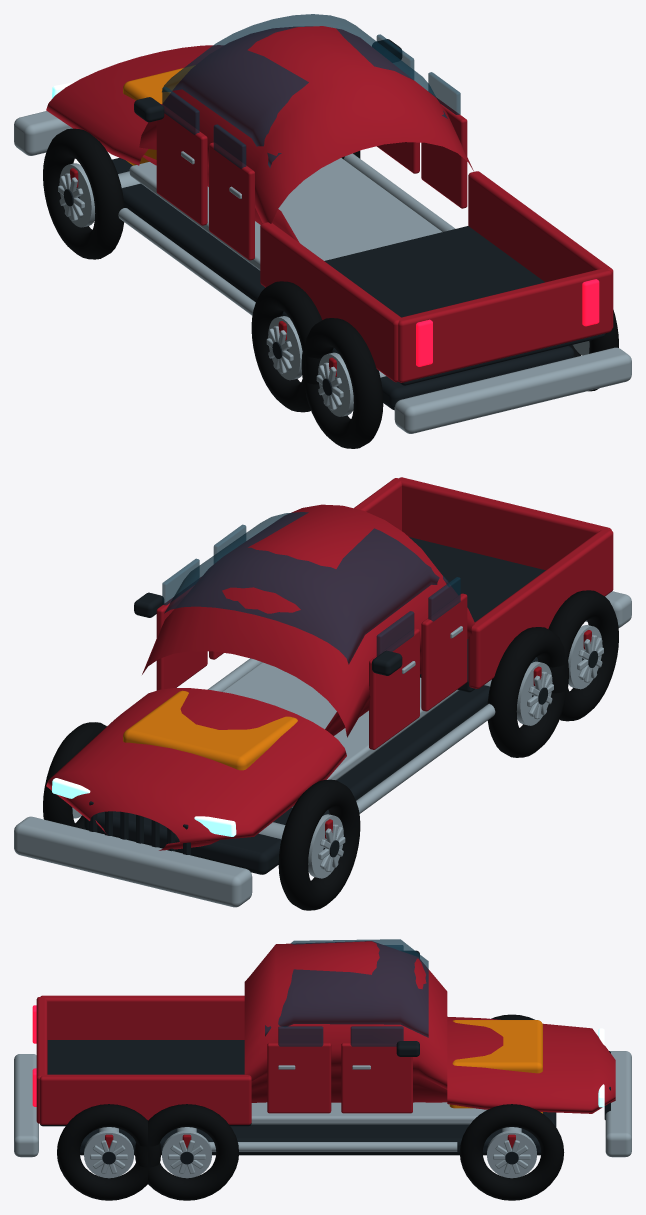
The model's file is titan_forge.glb.
3 renders of one model, top to bottom at view 1: azimuth 30°, elevation 25°; view 2: azimuth 150°, elevation 25°; view 3: azimuth 270°, elevation 25°, orthographic. The views are drawn at different scales.
Visible parts, largest first — view 1: meet_mesh__cab__four_door_safety_cell, meet_mesh__cargo_bed__tailgate, meet_mesh__cargo_floor__reinforced_bed_floor, meet_mesh__glasshouse__panoramic_safety_glass, meet_mesh__floor__structural_floor, meet_mesh__rear_bumper__recovery_bumper, meet_mesh__chassis__lower_frame, meet_mesh__cargo_bed__bed_side_-1.2, meet_mesh__hood__sculpted_power_hood, meet_mesh__cargo_bed__bed_side_1.2, meet_mesh__wheel_left_-2.55__tire, meet_mesh__wheel_left_2.62__tire (+20 smaller); view 2: meet_mesh__cab__four_door_safety_cell, meet_mesh__hood__sculpted_power_hood, meet_mesh__glasshouse__panoramic_safety_glass, meet_mesh__cargo_bed__tailgate, meet_mesh__front_bumper__recovery_bumper, meet_mesh__chassis__lower_frame, meet_mesh__cargo_bed__bed_side_-1.2, meet_mesh__wheel_left_-2.55__tire, meet_mesh__wheel_left_1.62__tire, meet_mesh__power_module__original_v_powertrain, meet_mesh__floor__structural_floor, meet_mesh__wheel_left_2.62__tire (+16 smaller); view 3: meet_mesh__cab__four_door_safety_cell, meet_mesh__hood__sculpted_power_hood, meet_mesh__glasshouse__panoramic_safety_glass, meet_mesh__cargo_bed__bed_side_-1.2, meet_mesh__cargo_bed__bed_side_1.2, meet_mesh__cargo_floor__reinforced_bed_floor, meet_mesh__chassis__lower_frame, meet_mesh__wheel_right_-2.55__tire, meet_mesh__wheel_right_1.62__tire, meet_mesh__wheel_right_2.62__tire, meet_mesh__front_doors__front_1.225, meet_mesh__rear_doors__rear_1.225 (+11 smaller).
Part boxes in pixels (x1=…): meet_mesh__cab__four_door_safety_cell: x1=139, y1=26, x2=473, y2=242; meet_mesh__cargo_bed__tailgate: x1=398, y1=268, x2=611, y2=382; meet_mesh__cargo_floor__reinforced_bed_floor: x1=324, y1=226, x2=605, y2=385; meet_mesh__glasshouse__panoramic_safety_glass: x1=162, y1=14, x2=447, y2=167; meet_mesh__floor__structural_floor: x1=129, y1=158, x2=442, y2=270; meet_mesh__rear_bumper__recovery_bumper: x1=394, y1=347, x2=631, y2=433; meet_mesh__chassis__lower_frame: x1=112, y1=158, x2=574, y2=410; meet_mesh__cargo_bed__bed_side_-1.2: x1=260, y1=222, x2=400, y2=382; meet_mesh__hood__sculpted_power_hood: x1=46, y1=45, x2=223, y2=165; meet_mesh__cargo_bed__bed_side_1.2: x1=468, y1=171, x2=613, y2=328; meet_mesh__wheel_left_-2.55__tire: x1=43, y1=128, x2=124, y2=259; meet_mesh__wheel_left_2.62__tire: x1=301, y1=318, x2=383, y2=448; meet_mesh__cab__four_door_safety_cell: x1=142, y1=504, x2=474, y2=737; meet_mesh__hood__sculpted_power_hood: x1=46, y1=688, x2=346, y2=850; meet_mesh__glasshouse__panoramic_safety_glass: x1=164, y1=512, x2=449, y2=664; meet_mesh__cargo_bed__tailgate: x1=399, y1=477, x2=611, y2=570; meet_mesh__front_bumper__recovery_bumper: x1=14, y1=816, x2=252, y2=907; meet_mesh__chassis__lower_frame: x1=84, y1=657, x2=538, y2=874; meet_mesh__cargo_bed__bed_side_-1.2: x1=468, y1=529, x2=613, y2=688; meet_mesh__wheel_left_-2.55__tire: x1=278, y1=779, x2=360, y2=910; meet_mesh__wheel_left_1.62__tire: x1=487, y1=627, x2=568, y2=757; meet_mesh__power_module__original_v_powertrain: x1=123, y1=690, x2=297, y2=770; meet_mesh__floor__structural_floor: x1=222, y1=662, x2=459, y2=807; meet_mesh__wheel_left_2.62__tire: x1=538, y1=590, x2=618, y2=721; meet_mesh__cab__four_door_safety_cell: x1=244, y1=941, x2=447, y2=1102; meet_mesh__hood__sculpted_power_hood: x1=447, y1=1016, x2=615, y2=1113; meet_mesh__glasshouse__panoramic_safety_glass: x1=265, y1=939, x2=428, y2=1037; meet_mesh__cargo_bed__bed_side_-1.2: x1=40, y1=995, x2=244, y2=1039; meet_mesh__cargo_bed__bed_side_1.2: x1=39, y1=1074, x2=251, y2=1124; meet_mesh__cargo_floor__reinforced_bed_floor: x1=40, y1=1040, x2=251, y2=1126; meet_mesh__chassis__lower_frame: x1=80, y1=1112, x2=556, y2=1155; meet_mesh__wheel_right_-2.55__tire: x1=459, y1=1104, x2=564, y2=1200; meet_mesh__wheel_right_1.62__tire: x1=134, y1=1104, x2=239, y2=1200; meet_mesh__wheel_right_2.62__tire: x1=57, y1=1104, x2=161, y2=1200; meet_mesh__front_doors__front_1.225: x1=341, y1=1043, x2=412, y2=1113; meet_mesh__rear_doors__rear_1.225: x1=267, y1=1043, x2=331, y2=1113.
Size of the model in its own units: 3.08 by 2.89 by 7.93.
